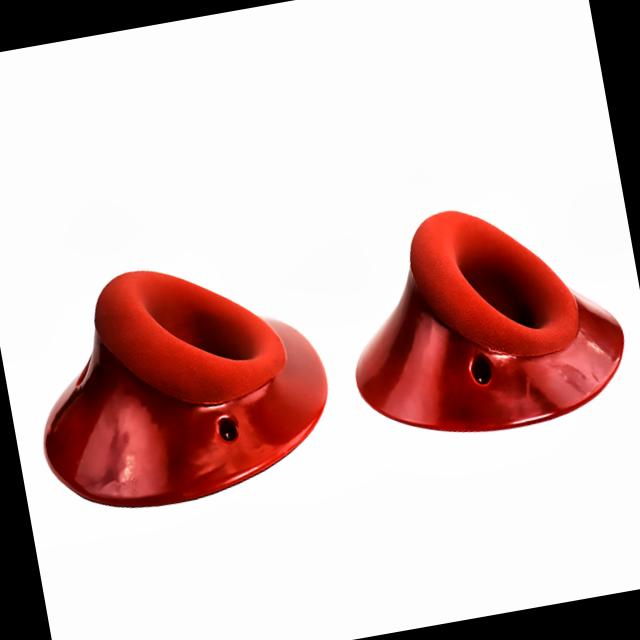Hold: (19, 245, 345, 522), (334, 177, 636, 451)
